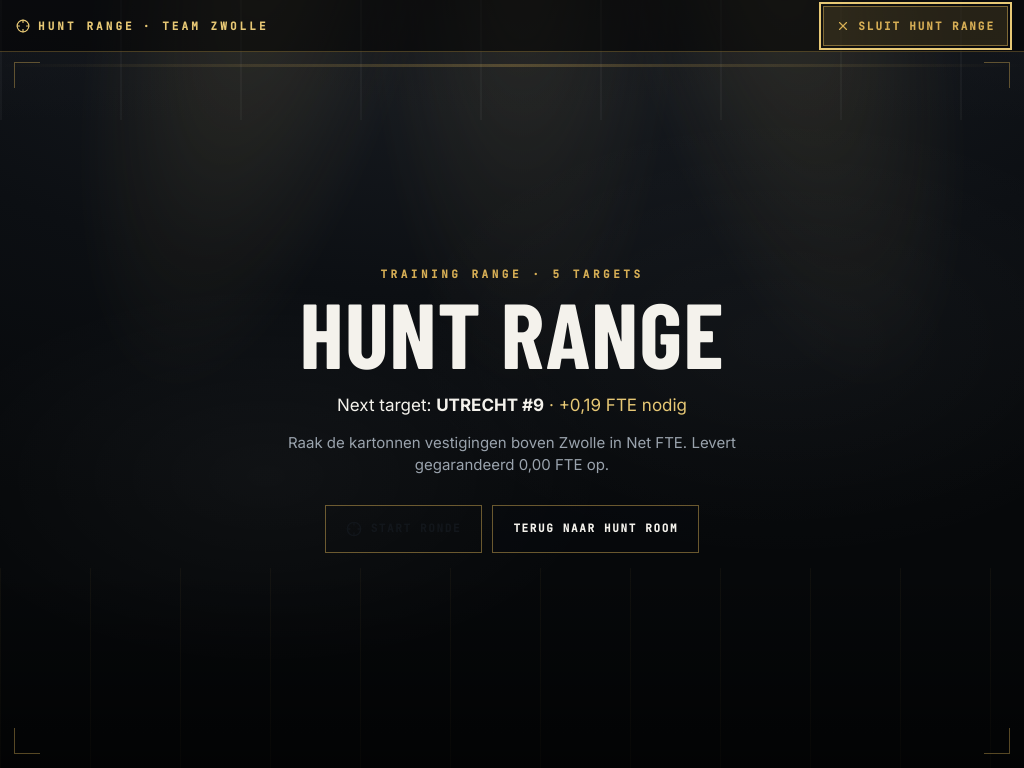
Test: HuntRange › a click is a hit: score +1, a one-liner with the live target and the FTE needed
Later steps or results of the test are not shown.
Click the button "Start ronde" at point(404, 529), box [325,505,482,553]
Wait 450 ms
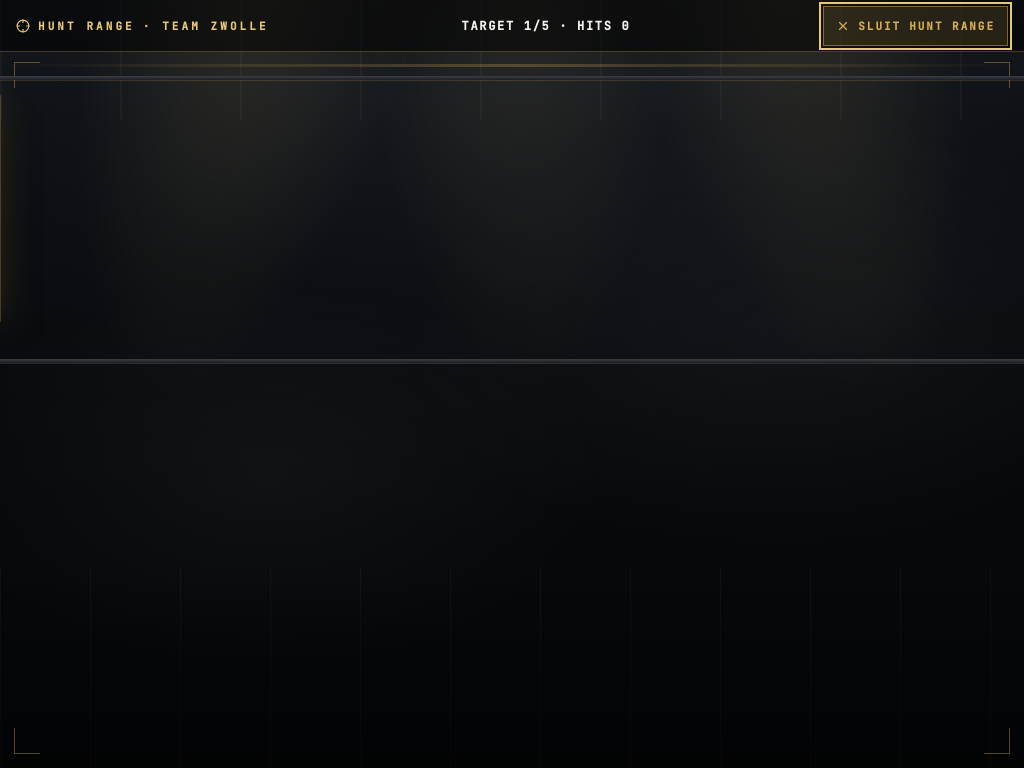
Now the text with test id "range-hud" reads "Target 1/5 · Hits 0", box [462,18,630,34]
